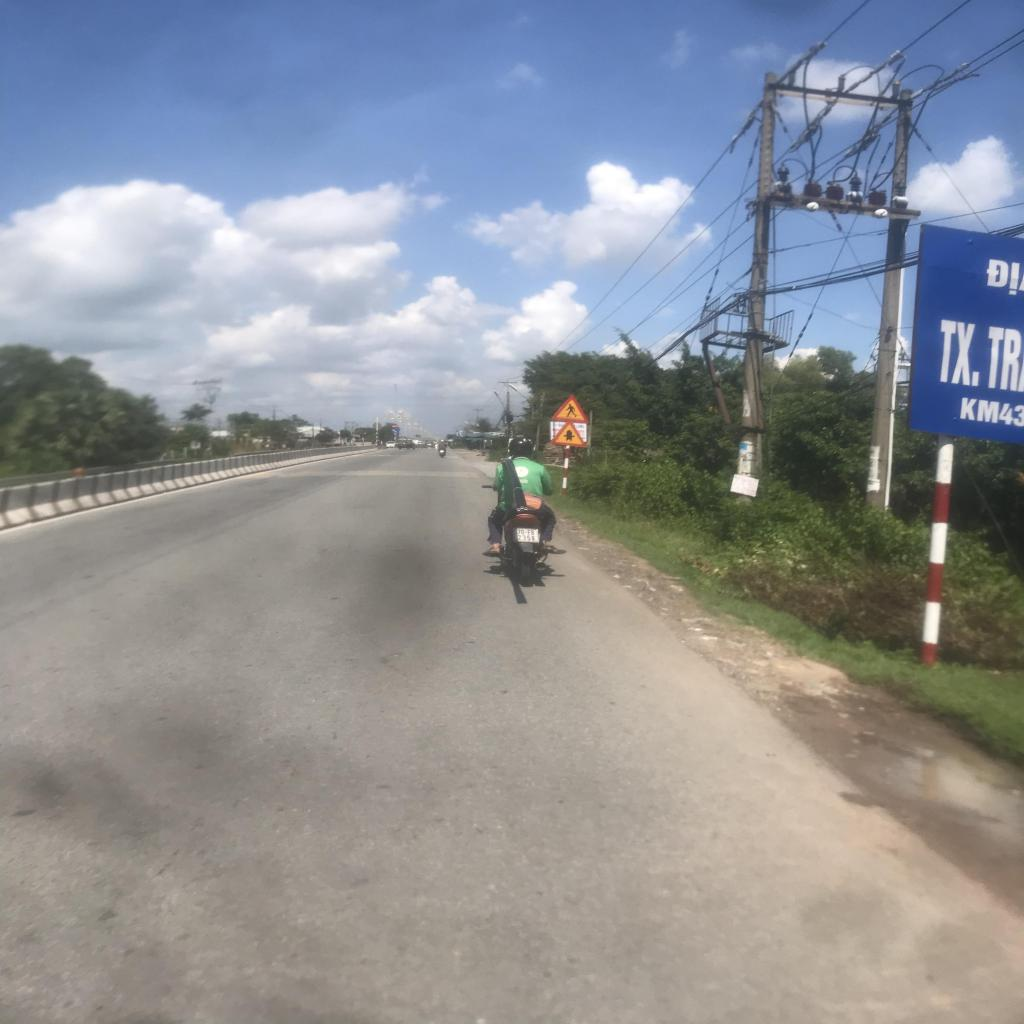cam_xe_di_nguoc_chieu: (391, 424, 398, 428)
chu_y_nguoi_di_bo_cat_ngang: (551, 395, 590, 424)
giao_nhau_voi_duong_khong_uu_tien: (549, 420, 588, 447)
huong_phai_di_vuot_chuong_ngai_vat_phai: (392, 428, 398, 433)
